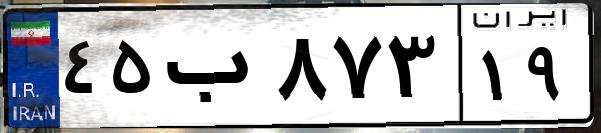1: (475, 38, 525, 113)
3: (385, 28, 445, 110)
4: (57, 26, 110, 100)
5: (110, 28, 158, 98)
7: (330, 28, 385, 110)
8: (270, 28, 330, 110)
9: (525, 38, 570, 115)
ب: (158, 20, 270, 120)
